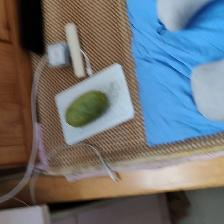gua: (63, 87, 108, 121)
